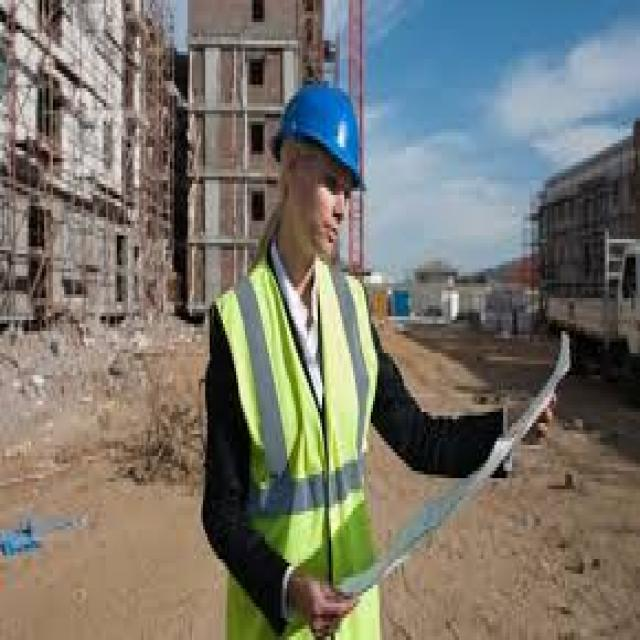Reflective-Jacket: (194, 250, 400, 640)
Safety-Helmet: (260, 66, 382, 214)
